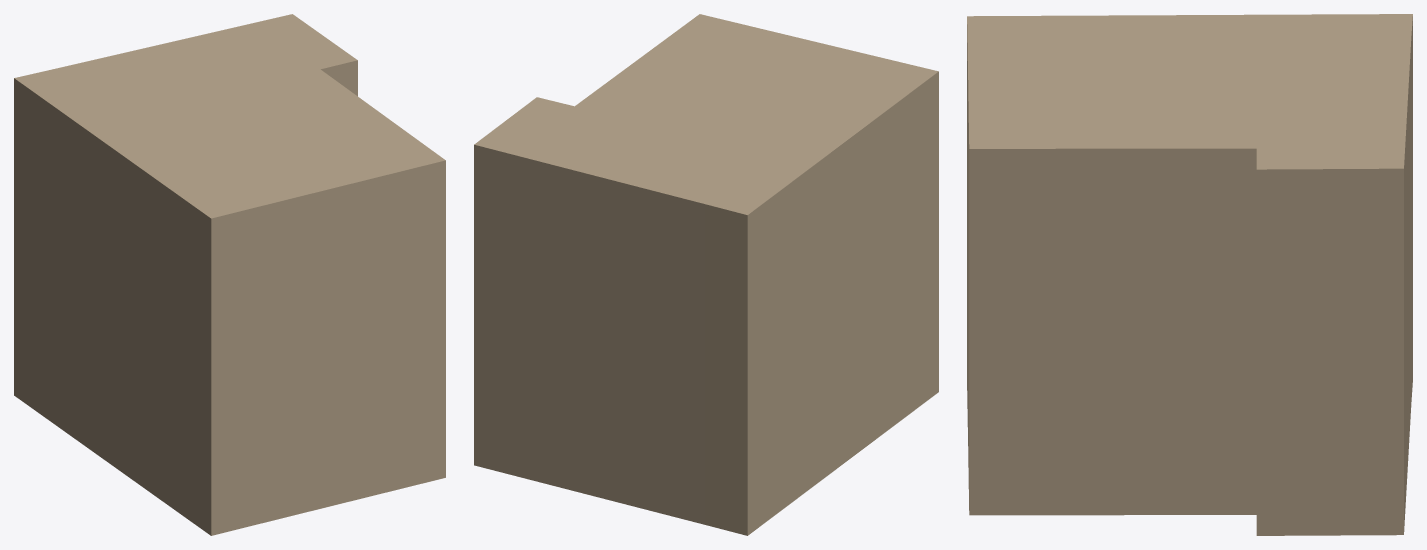
File: bld_99020502.dae
3 renders of one model, left to right at view 1: azimuth 30°, elevation 25°; view 2: azimuth 150°, elevation 25°; view 3: azimuth 270°, elevation 25°, orthographic. The views are drawn at different scales.
Visible parts, largest first — view 1: bld_99020502; view 2: bld_99020502; view 3: bld_99020502.
Boxes of the visible parts, left/top/right/bottom form: bld_99020502: left=14, top=14, right=445, bottom=535; bld_99020502: left=474, top=14, right=938, bottom=535; bld_99020502: left=967, top=14, right=1412, bottom=535.
Size of the model in its own units: 7.28 by 8.82 by 8.
